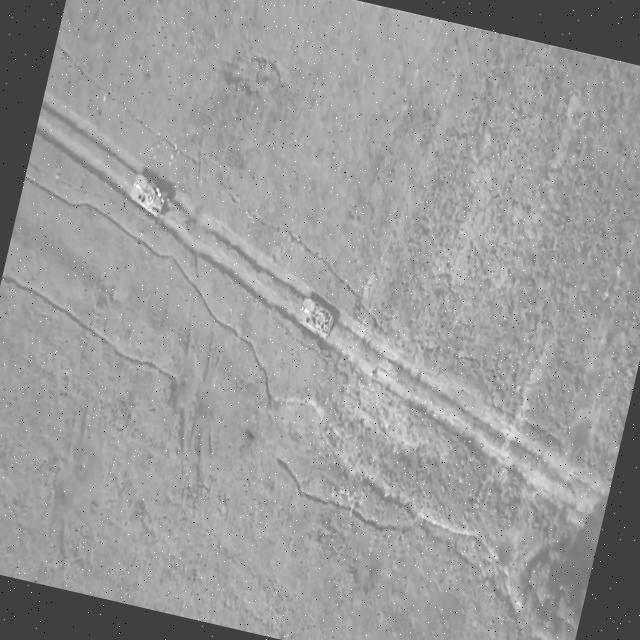AIFV: (122, 171, 174, 225), (292, 294, 342, 345)
